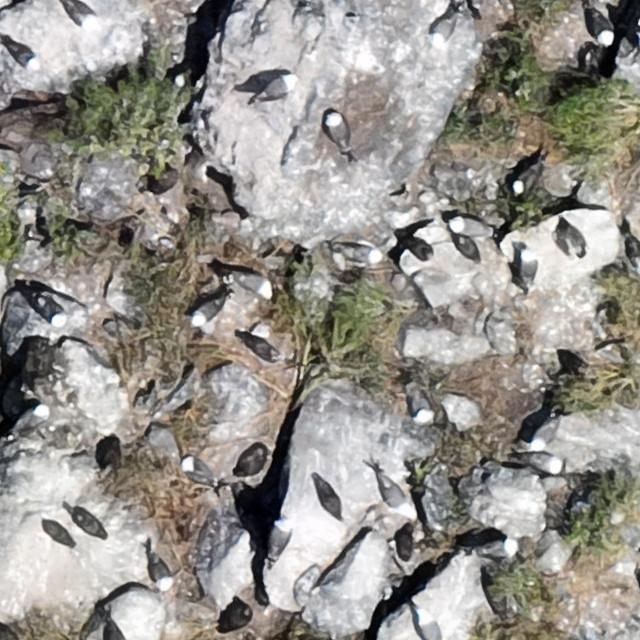umineko: (378, 468, 416, 518), (184, 456, 218, 492), (11, 406, 47, 439), (64, 1, 99, 31), (416, 606, 445, 638), (258, 76, 293, 100), (512, 164, 538, 193), (327, 113, 348, 148), (590, 12, 612, 45), (235, 273, 271, 293), (39, 298, 65, 324), (151, 558, 172, 590), (9, 45, 37, 69), (452, 218, 487, 237), (193, 299, 220, 323), (480, 540, 516, 558), (343, 245, 381, 262), (76, 514, 101, 538), (270, 524, 288, 557), (432, 17, 454, 43), (412, 393, 431, 422), (530, 423, 552, 447), (46, 526, 72, 546), (520, 250, 535, 284), (530, 453, 560, 470)
